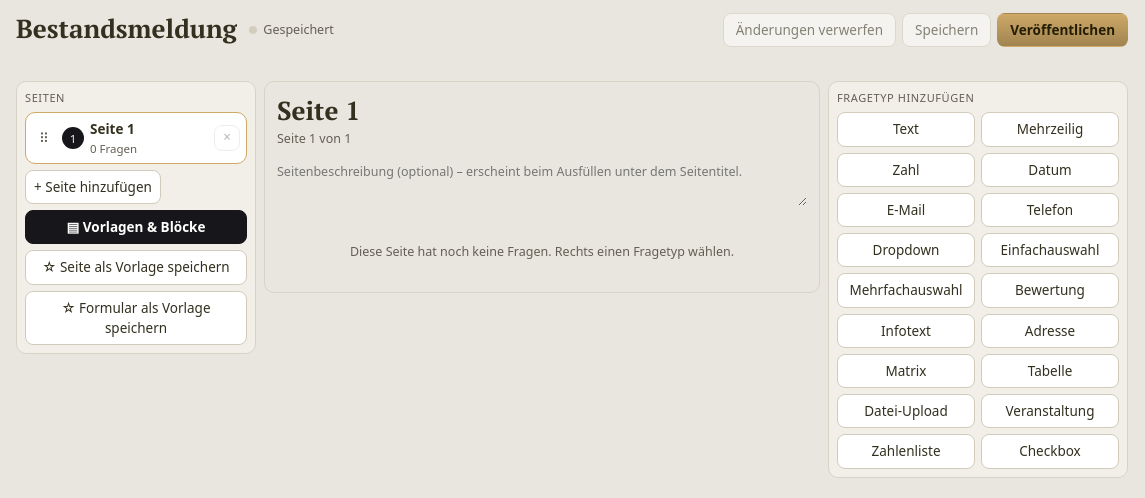
BuilderView › pages › adds a page and refuses to delete the last one
Expected: the field named "Formularname" is shown, top-left (16, 12), bottom-right (237, 48)
Expected: the button named "Seite 1 löschen" is disabled, top-left (214, 125), bottom-right (240, 151)
Click the button "+ Seite hinzufügen": (93, 187) top-left (25, 170), bottom-right (161, 204)
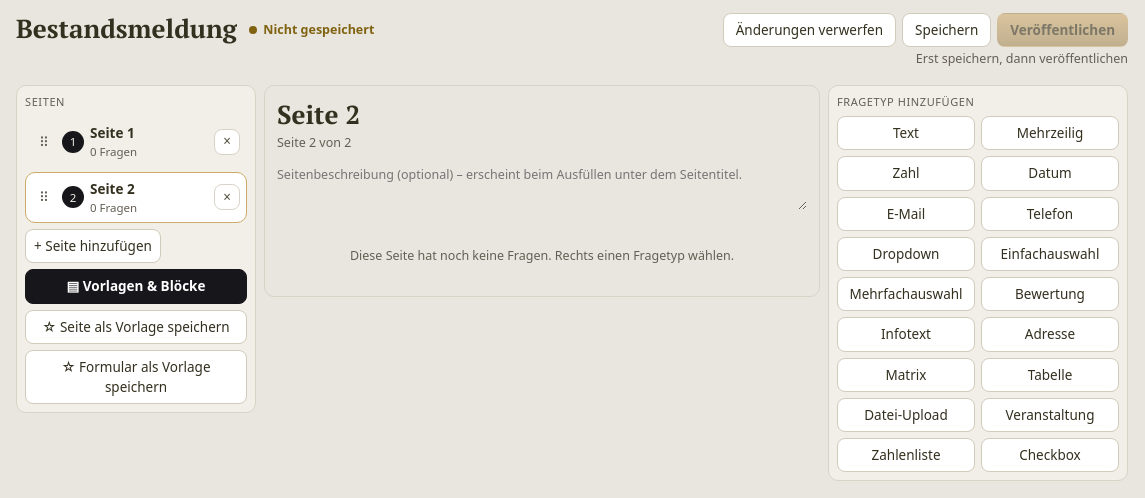
Result: the button named "Seite 1 löschen" is enabled at top-left (214, 129), bottom-right (240, 155)
